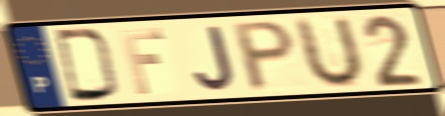2: (361, 10, 426, 89)
D: (52, 27, 122, 104)
F: (117, 27, 167, 97)
J: (192, 23, 239, 93)
P: (231, 18, 297, 95)
U: (294, 13, 366, 91)
